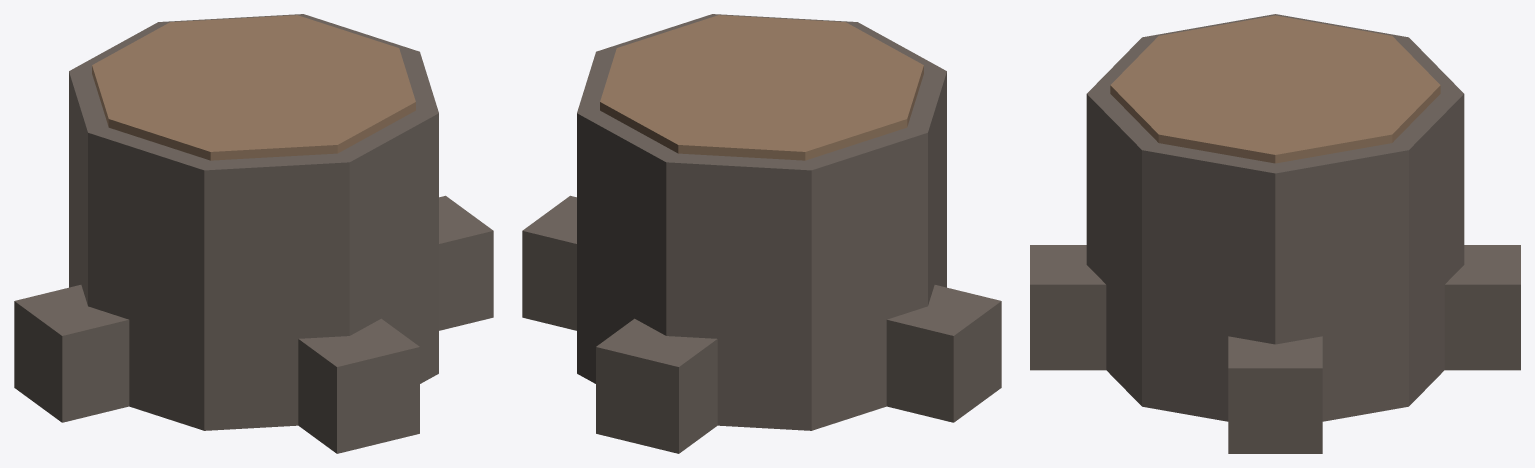
The model's file is haunted_tree_stump.glb.
The picture shows the model from 3 angles, left to right: view 1: azimuth 30°, elevation 25°; view 2: azimuth 150°, elevation 25°; view 3: azimuth 270°, elevation 25°; orthographic projection.
Visible parts, largest first — view 1: Haunted_Tree_Stump; view 2: Haunted_Tree_Stump; view 3: Haunted_Tree_Stump.
Part boxes in pixels (x1,y1,x2,y2): Haunted_Tree_Stump: [14, 14, 493, 453]; Haunted_Tree_Stump: [522, 14, 1001, 453]; Haunted_Tree_Stump: [1030, 14, 1520, 453].
Bounding box in the file's own units: 1.04 × 0.62 × 1.04.
